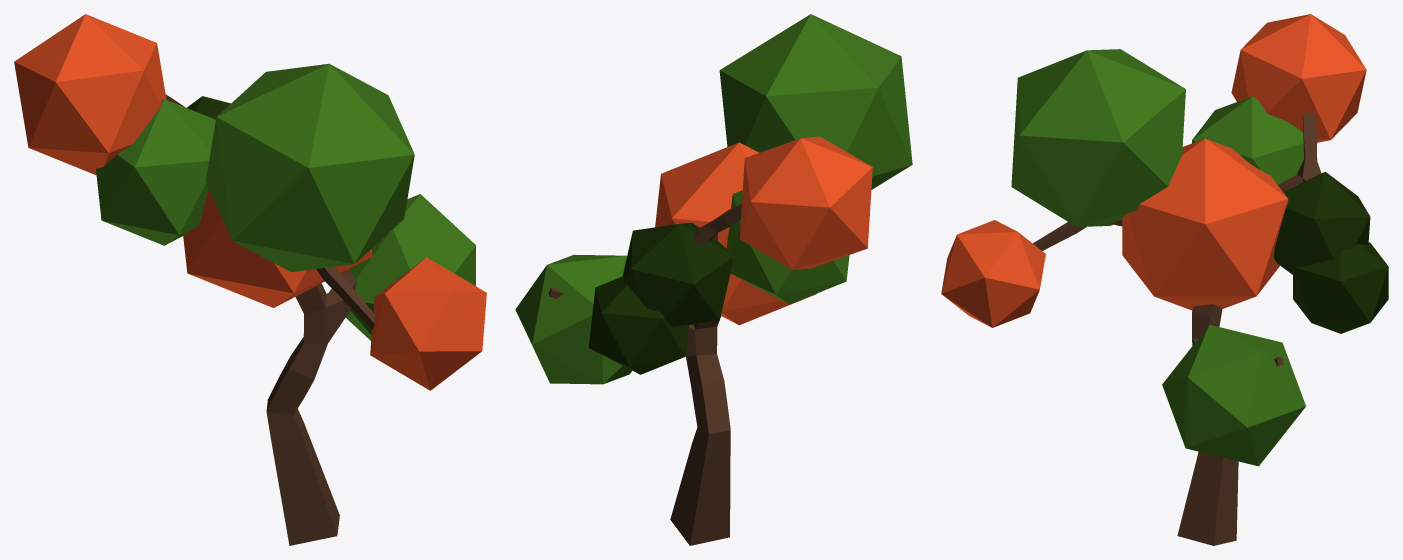
File: tree_2.fbx
3 views of the same model, side by side, from view 1: azimuth 30°, elevation 25°; view 2: azimuth 150°, elevation 25°; view 3: azimuth 270°, elevation 25° (orthographic). The views are drawn at different scales.
Visible parts, largest first — view 1: Icosphere.008, Icosphere.010, Cube.001, Icosphere.014, Icosphere.012, Icosphere.009, Icosphere.013, Icosphere.015; view 2: Icosphere.008, Icosphere.010, Cube.001, Icosphere.009, Icosphere.015, Icosphere.013, Icosphere.011, Icosphere.014; view 3: Icosphere.008, Icosphere.013, Icosphere.009, Icosphere.010, Icosphere.012, Cube.001, Icosphere.015, Icosphere.011, Icosphere.014.
Boxes of the visible parts, <box> form: Icosphere.008: <box>206,63,414,272</box>; Icosphere.010: <box>14,14,166,175</box>; Cube.001: <box>165,94,374,545</box>; Icosphere.014: <box>96,99,215,245</box>; Icosphere.012: <box>370,257,486,390</box>; Icosphere.009: <box>345,194,475,340</box>; Icosphere.013: <box>183,189,372,307</box>; Icosphere.015: <box>187,96,230,119</box>; Icosphere.008: <box>719,14,912,189</box>; Icosphere.010: <box>739,136,872,269</box>; Cube.001: <box>548,203,741,545</box>; Icosphere.009: <box>515,254,631,384</box>; Icosphere.015: <box>622,223,732,326</box>; Icosphere.013: <box>655,142,817,325</box>; Icosphere.011: <box>588,276,688,374</box>; Icosphere.014: <box>726,190,849,304</box>; Icosphere.008: <box>1011,49,1185,226</box>; Icosphere.013: <box>1122,138,1288,310</box>; Icosphere.009: <box>1162,324,1305,466</box>; Icosphere.010: <box>1231,14,1366,142</box>; Icosphere.012: <box>941,220,1045,327</box>; Cube.001: <box>1033,113,1321,545</box>; Icosphere.015: <box>1274,171,1370,274</box>; Icosphere.011: <box>1293,242,1388,333</box>; Icosphere.014: <box>1192,96,1303,184</box>.
Bounding box in the file's own units: 288 × 354 × 306.
